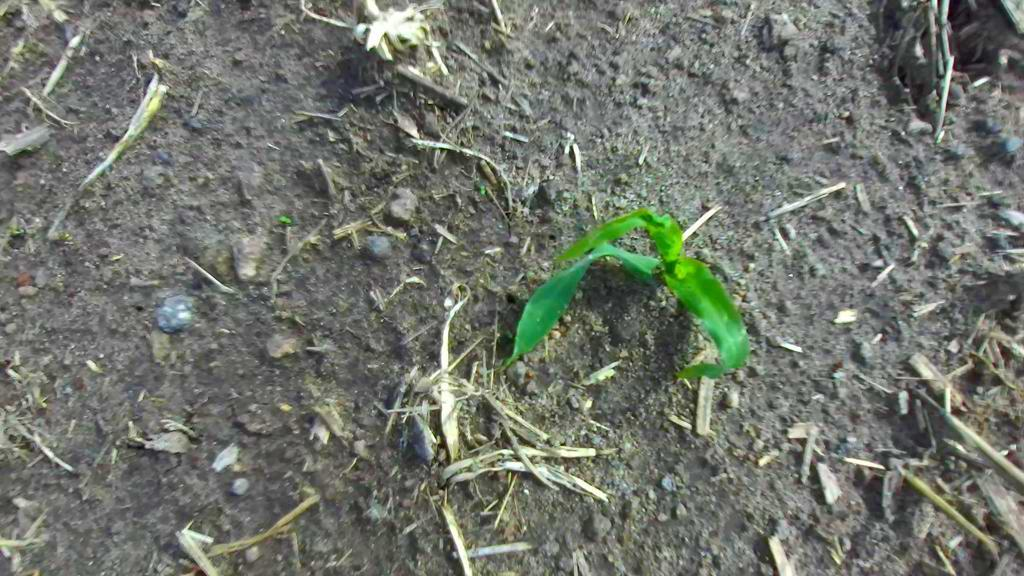BroWeed: (277, 214, 292, 224), (478, 184, 487, 195)
Maize: (499, 205, 751, 380)
